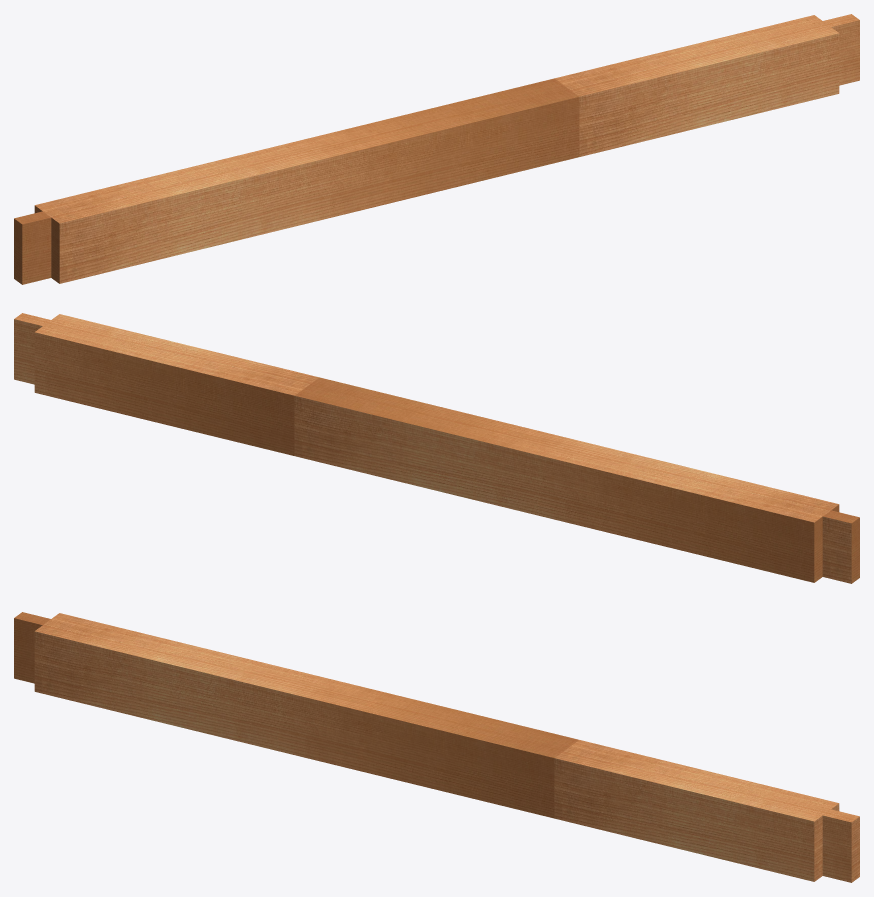
File: original-21.obj
3 views of the same model, one above another, from view 1: azimuth 30°, elevation 25°; view 2: azimuth 150°, elevation 25°; view 3: azimuth 330°, elevation 25° (orthographic).
Visible parts, largest first — view 1: front_rail1/front_rail/mesh40/mesh40-geometry#mesh40-geometry; view 2: front_rail1/front_rail/mesh40/mesh40-geometry#mesh40-geometry; view 3: front_rail1/front_rail/mesh40/mesh40-geometry#mesh40-geometry.
Boxes of the visible parts, x1,y1,x2,y2 form: front_rail1/front_rail/mesh40/mesh40-geometry#mesh40-geometry: [14, 14, 859, 284]; front_rail1/front_rail/mesh40/mesh40-geometry#mesh40-geometry: [14, 313, 859, 583]; front_rail1/front_rail/mesh40/mesh40-geometry#mesh40-geometry: [14, 612, 859, 882].
Bounding box in the file's own units: 0.7608 × 0.0525 × 0.0393.
